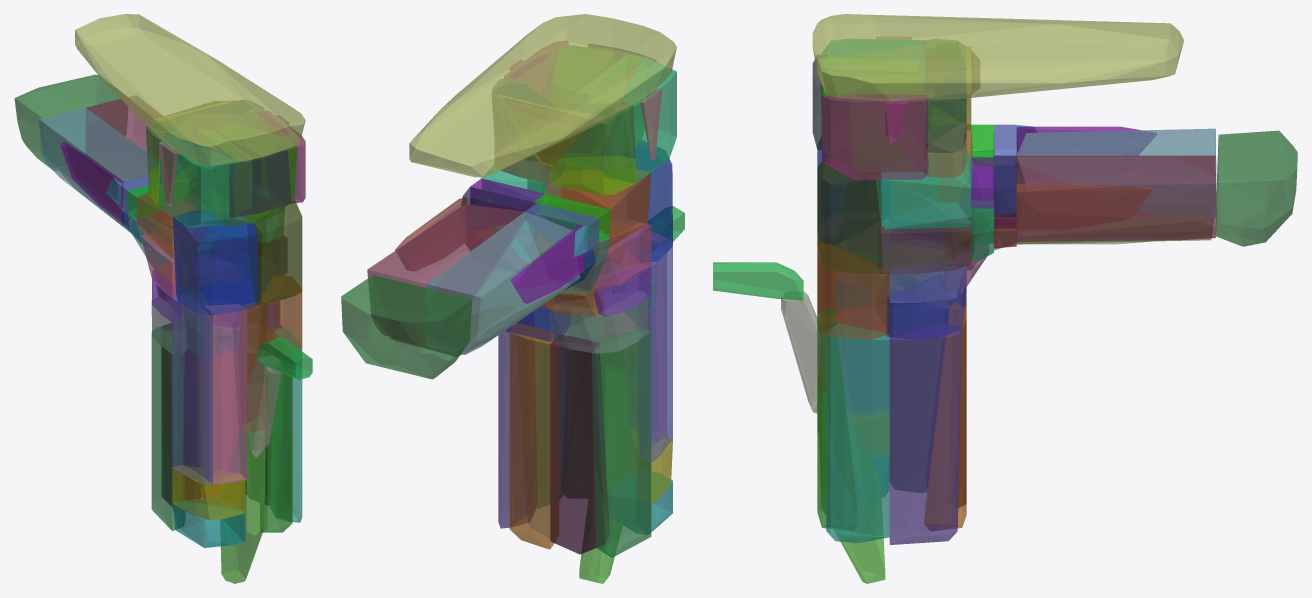
The picture shows the model from 3 angles, left to right: view 1: azimuth 30°, elevation 25°; view 2: azimuth 150°, elevation 25°; view 3: azimuth 270°, elevation 25°; orthographic projection. The views are drawn at different scales.
Parts seen in each view (by area): view 1: Shape_IndexedFaceSet.002, Shape_IndexedFaceSet.019, Shape_IndexedFaceSet.043, Shape_IndexedFaceSet.028, Shape_IndexedFaceSet.003, Shape_IndexedFaceSet.052, Shape_IndexedFaceSet.008, Shape_IndexedFaceSet.056, Shape_IndexedFaceSet.014, Shape_IndexedFaceSet.053, Shape_IndexedFaceSet.020, Shape_IndexedFaceSet.015 (+33 smaller); view 2: Shape_IndexedFaceSet.002, Shape_IndexedFaceSet.008, Shape_IndexedFaceSet.009, Shape_IndexedFaceSet.053, Shape_IndexedFaceSet.052, Shape_IndexedFaceSet.011, Shape_IndexedFaceSet.003, Shape_IndexedFaceSet.012, Shape_IndexedFaceSet.028, Shape_IndexedFaceSet.056, Shape_IndexedFaceSet.038, Shape_IndexedFaceSet.010 (+32 smaller); view 3: Shape_IndexedFaceSet.002, Shape_IndexedFaceSet.053, Shape_IndexedFaceSet.012, Shape_IndexedFaceSet.016, Shape_IndexedFaceSet.052, Shape_IndexedFaceSet.061, Shape_IndexedFaceSet.003, Shape_IndexedFaceSet.008, Shape_IndexedFaceSet.060, Shape_IndexedFaceSet.020, Shape_IndexedFaceSet.011, Shape_IndexedFaceSet.015 (+37 smaller).
Boxes of the visible parts, x1=… form: Shape_IndexedFaceSet.002: x1=75, y1=14, x2=305, y2=165; Shape_IndexedFaceSet.019: x1=172, y1=211, x2=257, y2=315; Shape_IndexedFaceSet.043: x1=203, y1=304, x2=247, y2=484; Shape_IndexedFaceSet.028: x1=172, y1=295, x2=212, y2=484; Shape_IndexedFaceSet.003: x1=14, y1=74, x2=127, y2=170; Shape_IndexedFaceSet.052: x1=38, y1=107, x2=159, y2=232; Shape_IndexedFaceSet.008: x1=151, y1=327, x2=184, y2=530; Shape_IndexedFaceSet.056: x1=158, y1=132, x2=236, y2=227; Shape_IndexedFaceSet.014: x1=220, y1=422, x2=265, y2=583; Shape_IndexedFaceSet.053: x1=85, y1=95, x2=162, y2=178; Shape_IndexedFaceSet.020: x1=247, y1=200, x2=302, y2=306; Shape_IndexedFaceSet.015: x1=260, y1=354, x2=292, y2=532; Shape_IndexedFaceSet.002: x1=409, y1=14, x2=676, y2=177; Shape_IndexedFaceSet.008: x1=591, y1=329, x2=651, y2=557; Shape_IndexedFaceSet.009: x1=550, y1=335, x2=609, y2=554; Shape_IndexedFaceSet.053: x1=367, y1=204, x2=525, y2=345; Shape_IndexedFaceSet.052: x1=425, y1=211, x2=580, y2=354; Shape_IndexedFaceSet.011: x1=509, y1=323, x2=558, y2=549; Shape_IndexedFaceSet.003: x1=341, y1=275, x2=472, y2=379; Shape_IndexedFaceSet.012: x1=498, y1=312, x2=537, y2=528; Shape_IndexedFaceSet.028: x1=635, y1=241, x2=672, y2=462; Shape_IndexedFaceSet.056: x1=601, y1=57, x2=676, y2=183; Shape_IndexedFaceSet.038: x1=544, y1=168, x2=650, y2=251; Shape_IndexedFaceSet.010: x1=551, y1=291, x2=647, y2=353; Shape_IndexedFaceSet.002: x1=812, y1=14, x2=1183, y2=101; Shape_IndexedFaceSet.053: x1=1015, y1=155, x2=1216, y2=241; Shape_IndexedFaceSet.012: x1=889, y1=323, x2=962, y2=544; Shape_IndexedFaceSet.016: x1=826, y1=323, x2=889, y2=542; Shape_IndexedFaceSet.052: x1=1017, y1=128, x2=1216, y2=216; Shape_IndexedFaceSet.061: x1=822, y1=94, x2=927, y2=179; Shape_IndexedFaceSet.003: x1=1216, y1=130, x2=1297, y2=246; Shape_IndexedFaceSet.008: x1=890, y1=287, x2=944, y2=492; Shape_IndexedFaceSet.060: x1=822, y1=70, x2=928, y2=171; Shape_IndexedFaceSet.020: x1=817, y1=157, x2=882, y2=274; Shape_IndexedFaceSet.011: x1=924, y1=304, x2=966, y2=530; Shape_IndexedFaceSet.015: x1=817, y1=308, x2=857, y2=530.
Bounding box in the file's own units: 0.1882 × 0.7042 × 0.694.
